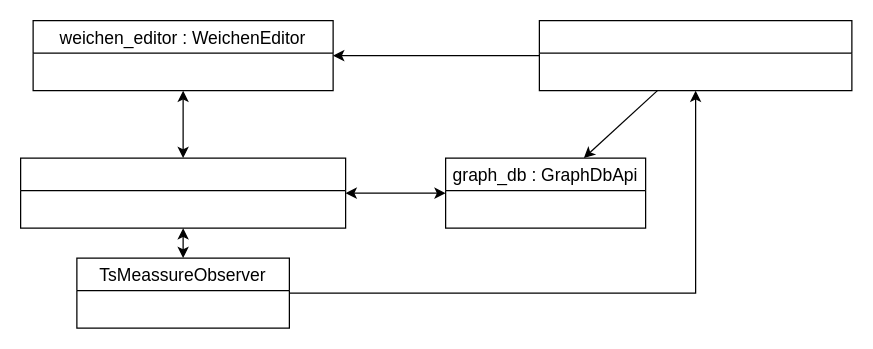
Image size: 873x349. Some labels were removed from this diagram. The centre of each missing label's shape, as x and y in pixels:
command_queue : Queue[Command]: the point at 695,55
gt_command : GtCommandSubject: the point at 182,192
